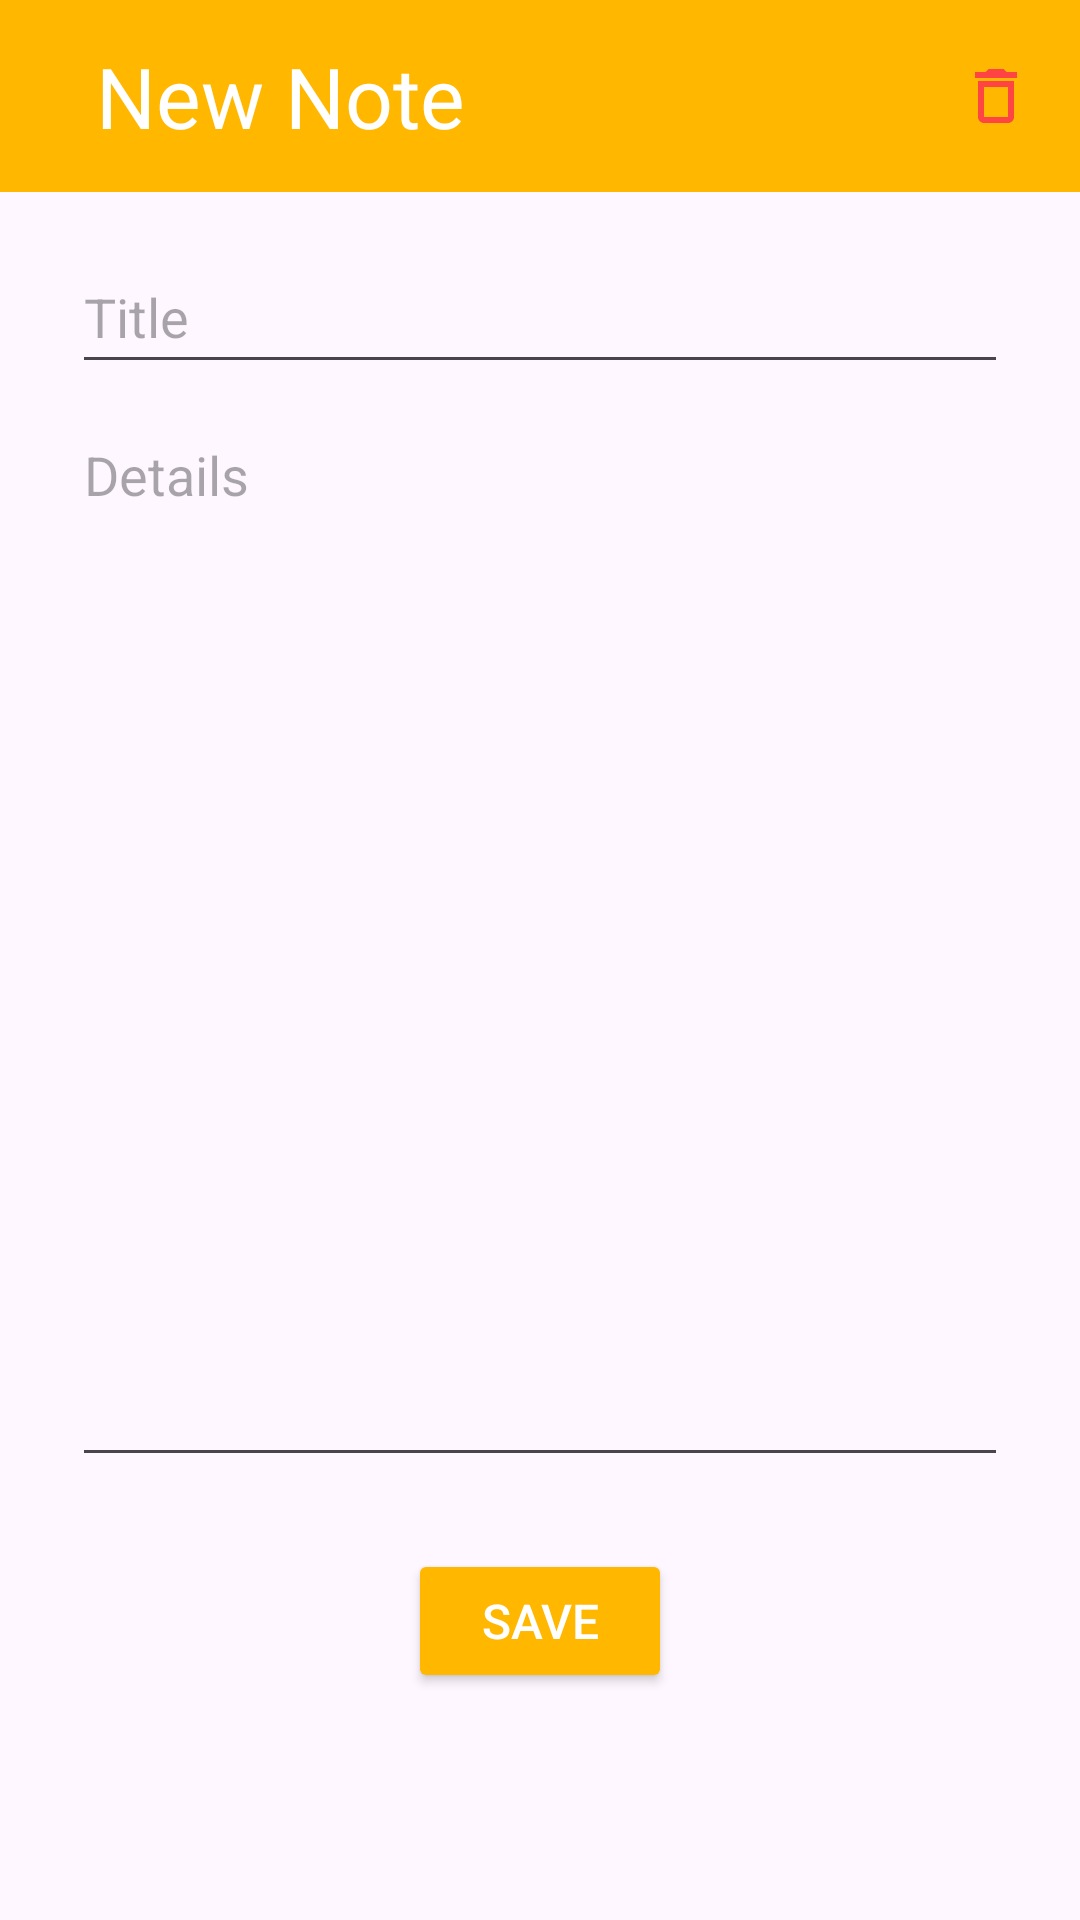

Icon bounding boxes for this 1080x1920 phone screenshot, format (x1, y1, x2, y2):
Delete: (975, 69, 1017, 123)
